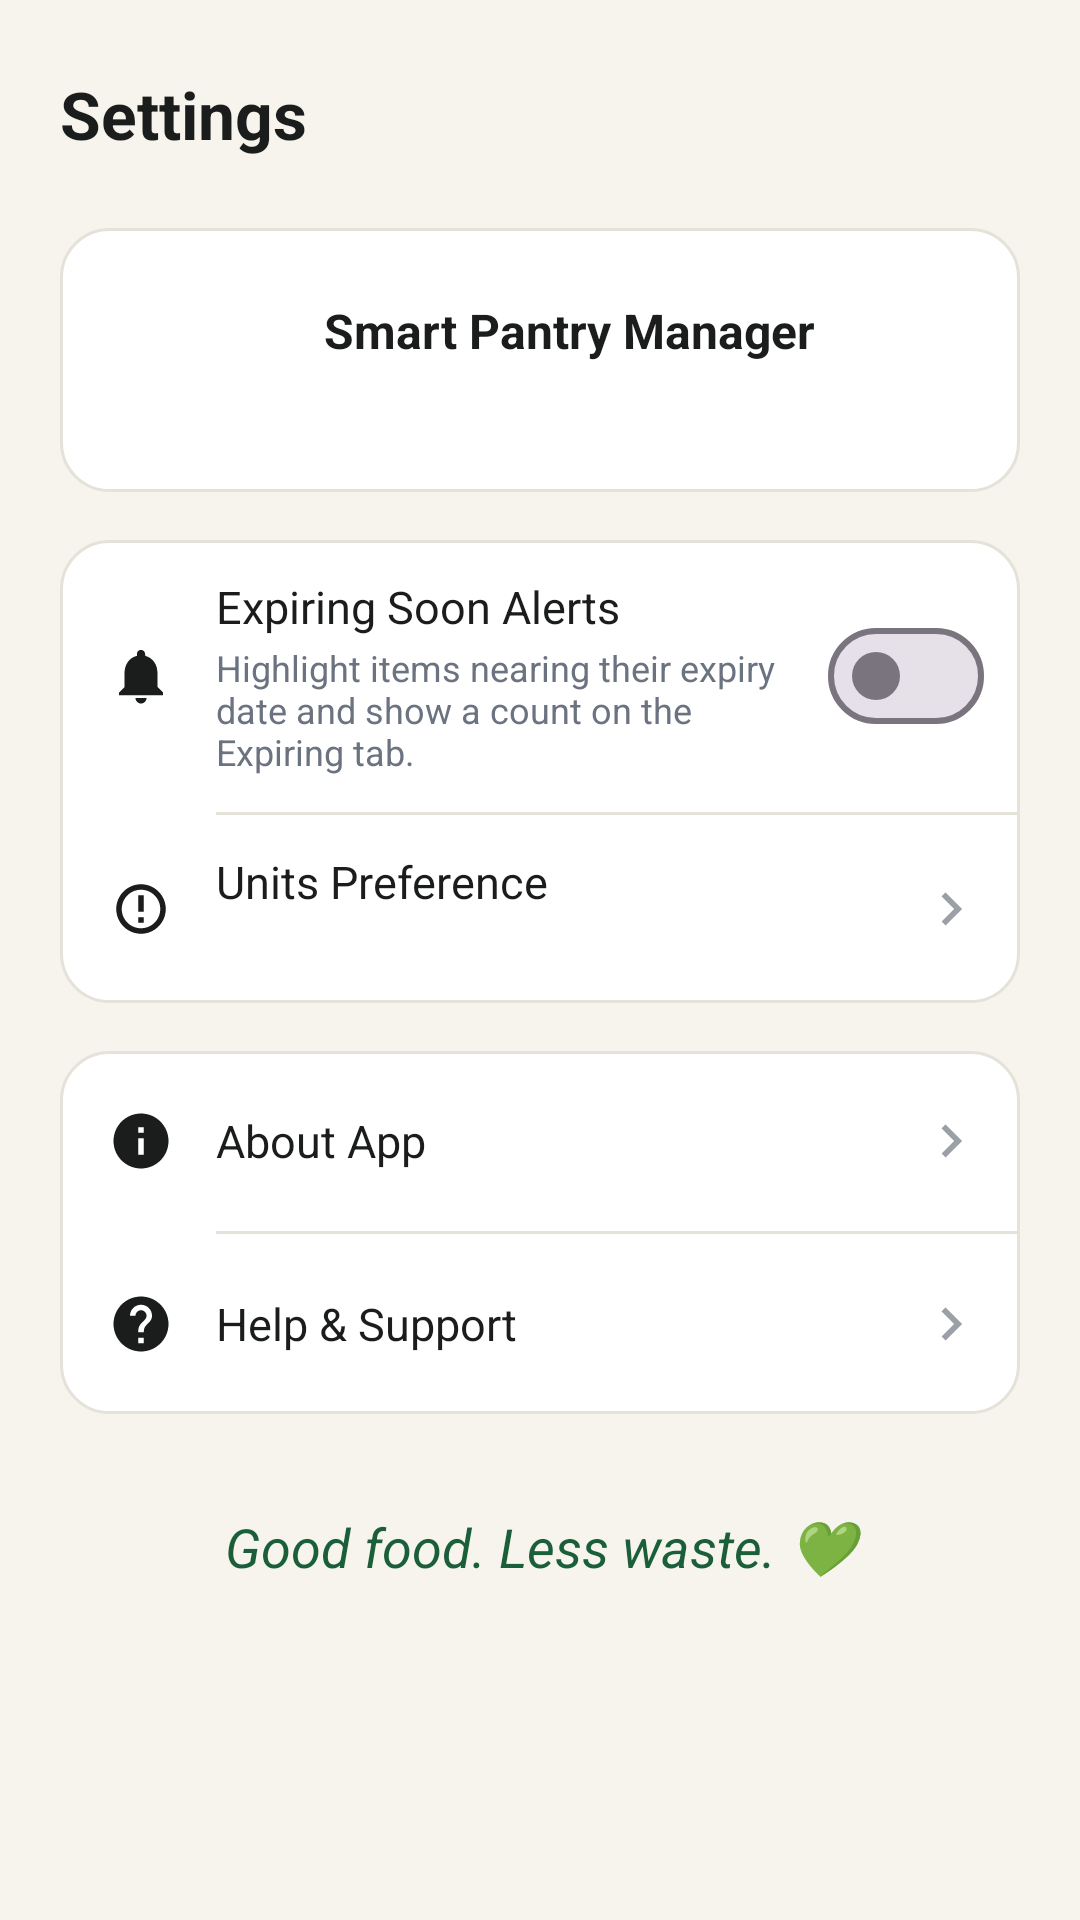

Where to tap for icons on this 1080px x 1920px app screen, as (x=x, y=y):
bell: (x=141, y=677)
info: (x=141, y=1141)
